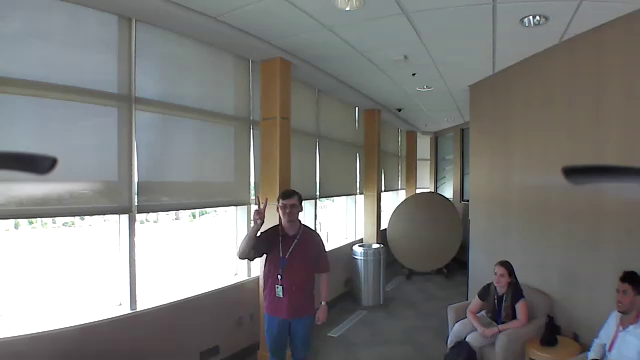peace: (246, 189, 274, 229)
